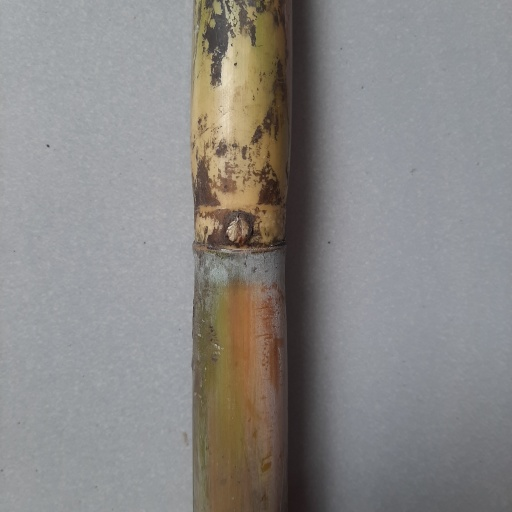Bud: (222, 215, 253, 247)
